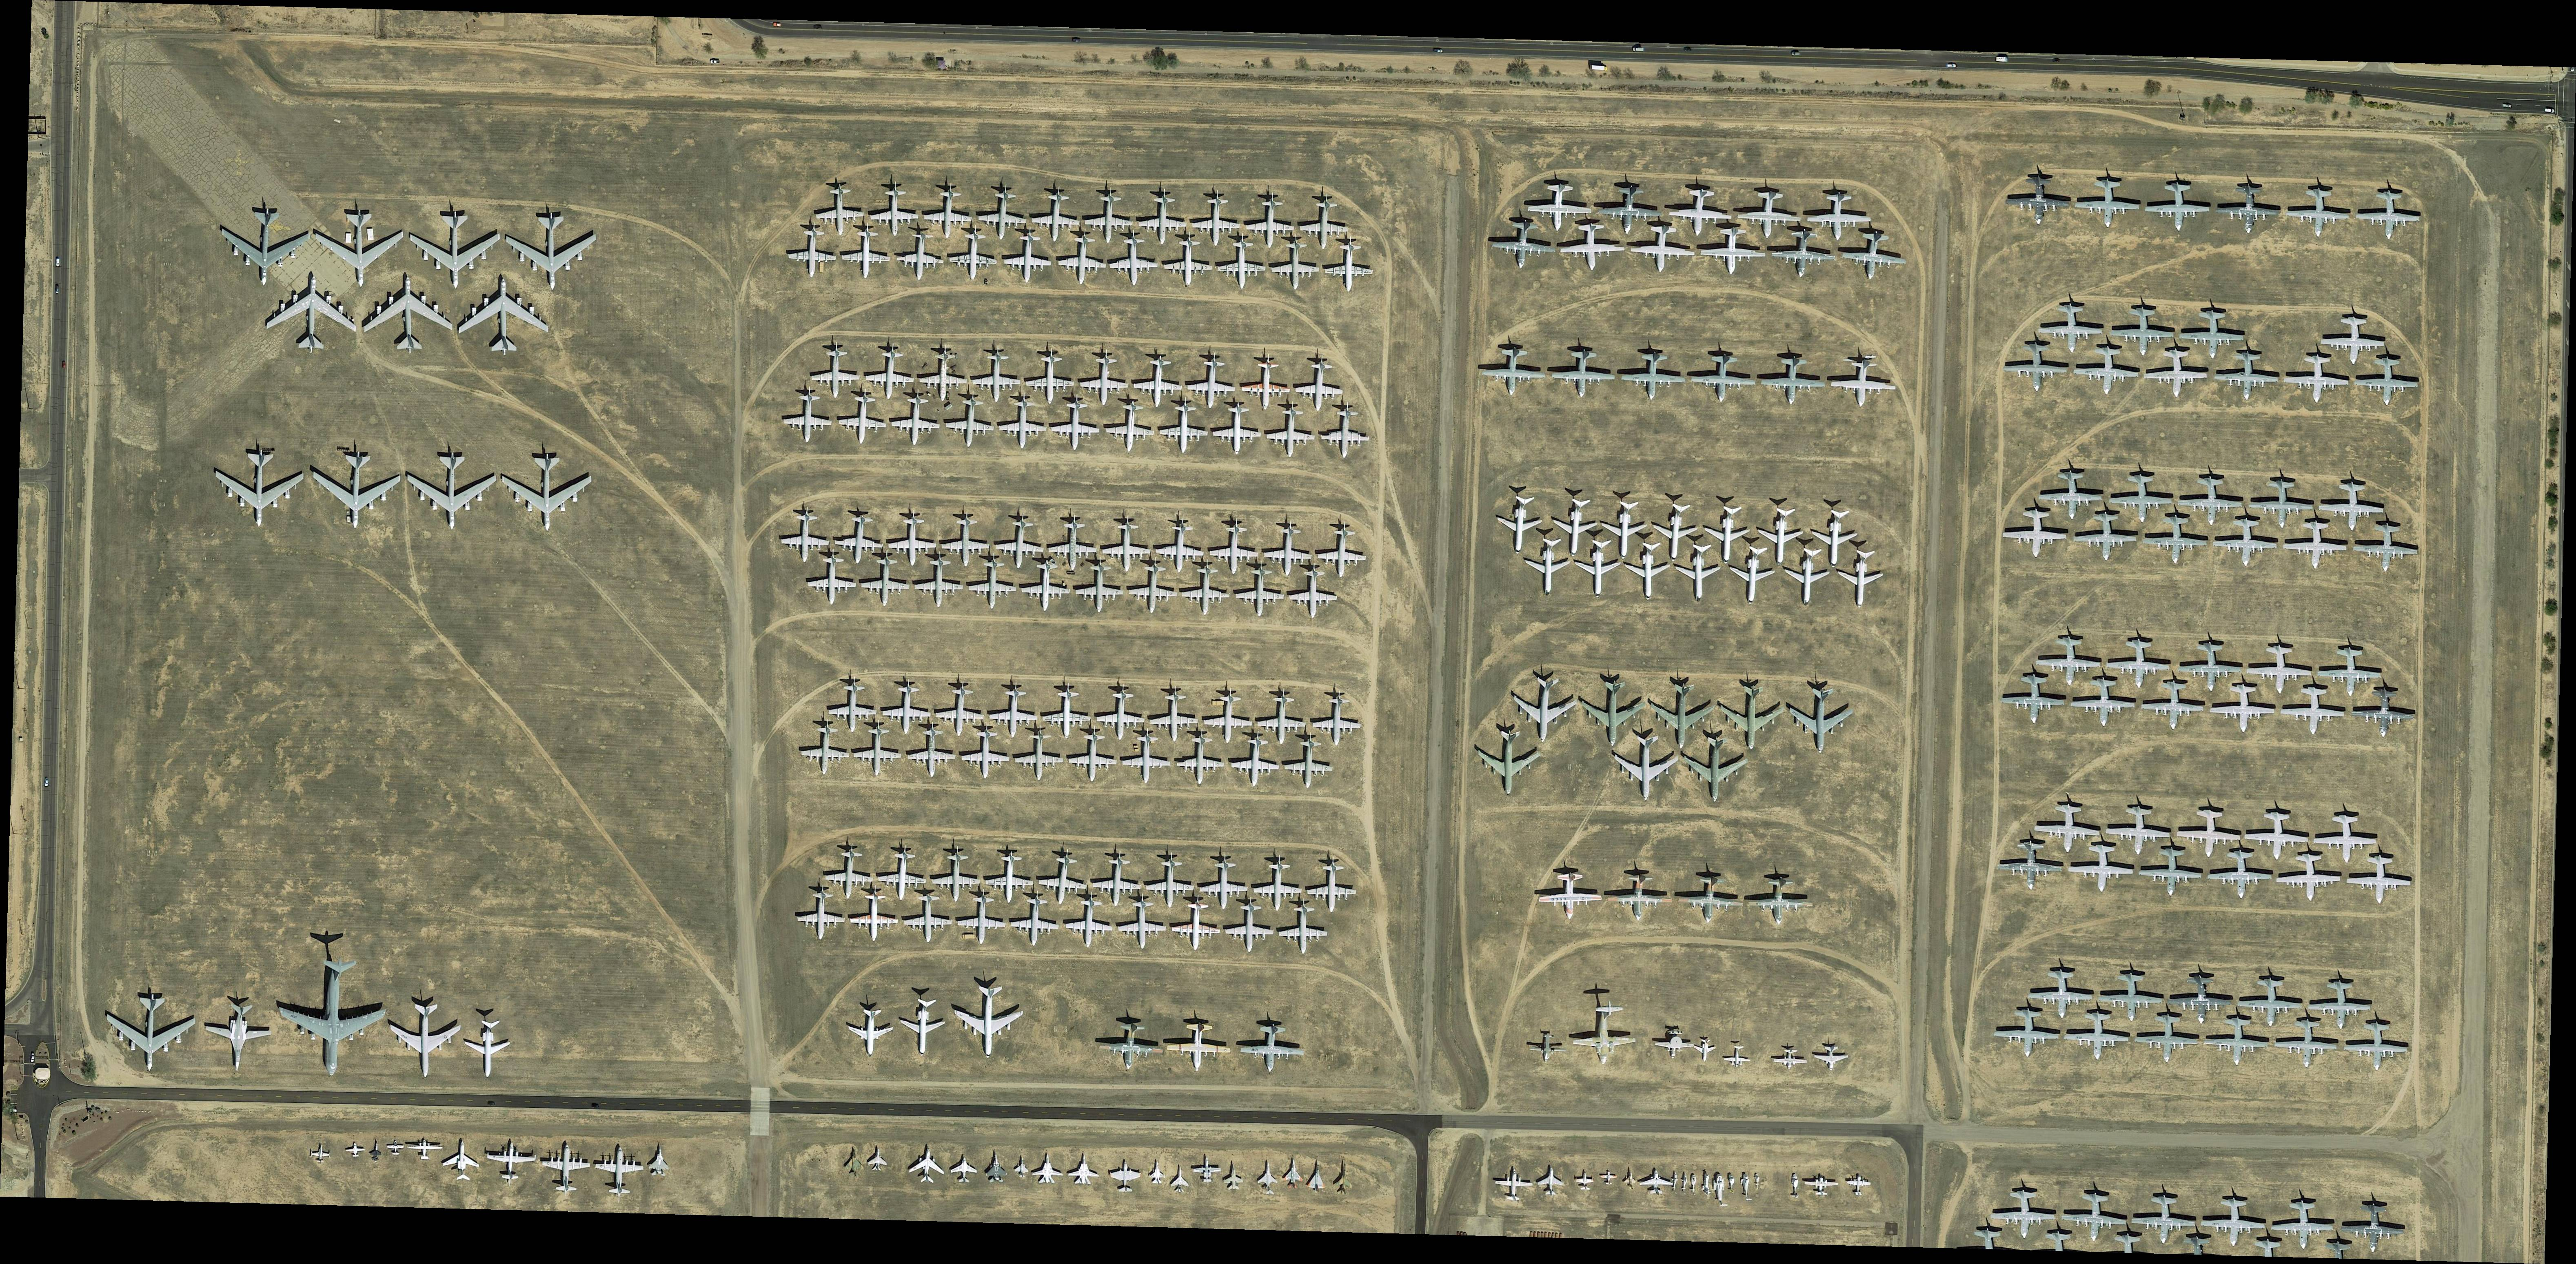helicopter: (1712, 1172, 1727, 1206), (1740, 1172, 1753, 1202), (1789, 1170, 1801, 1200), (1700, 1169, 1712, 1197), (1679, 1169, 1690, 1192), (1727, 1170, 1736, 1195), (1687, 1174, 1699, 1193), (1669, 1169, 1679, 1192), (1753, 1172, 1761, 1190)
plane: (273, 953, 393, 1078), (102, 990, 199, 1075), (209, 445, 306, 531), (503, 209, 596, 293), (457, 274, 552, 357), (310, 445, 403, 529), (404, 449, 496, 533), (407, 210, 503, 291), (218, 207, 312, 288), (312, 209, 404, 288), (501, 452, 593, 531), (266, 276, 360, 353), (363, 274, 453, 353), (200, 998, 278, 1077), (950, 983, 1025, 1060), (389, 1003, 462, 1078), (1579, 679, 1648, 750), (1612, 733, 1681, 802), (1649, 680, 1718, 750), (1682, 736, 1751, 804), (1571, 998, 1636, 1065), (1477, 730, 1544, 796), (1789, 687, 1855, 754), (1720, 684, 1784, 753), (1513, 677, 1579, 743), (2349, 518, 2422, 577), (2131, 1009, 2203, 1068), (2106, 301, 2177, 360), (1988, 1187, 2058, 1246), (1838, 228, 1911, 286), (1628, 220, 1700, 278), (2244, 643, 2318, 699), (2101, 804, 2175, 860), (2058, 1190, 2131, 1246), (2031, 802, 2103, 858), (1488, 217, 1561, 273), (2104, 636, 2173, 694), (2341, 1019, 2410, 1077), (2349, 685, 2420, 741), (1993, 1006, 2063, 1062), (1677, 871, 1748, 927), (1760, 353, 1830, 409), (1830, 355, 1901, 411), (2277, 684, 2349, 738), (2316, 480, 2389, 534), (2128, 1193, 2200, 1248), (1687, 352, 1760, 406), (2316, 644, 2385, 700), (2034, 634, 2103, 690), (2211, 347, 2280, 403), (2247, 475, 2316, 531), (2175, 807, 2244, 863), (1526, 181, 1595, 237), (2001, 508, 2072, 562), (2274, 850, 2344, 904), (2096, 971, 2167, 1026), (2142, 181, 2213, 235), (1735, 189, 1806, 243), (2067, 843, 2139, 896), (1594, 184, 1666, 237), (2037, 301, 2104, 357), (1165, 1021, 1234, 1075), (2320, 314, 2389, 368), (2178, 307, 2247, 362), (2339, 1202, 2408, 1256), (2200, 1197, 2269, 1251), (2346, 853, 2415, 907), (2136, 845, 2205, 899), (2354, 189, 2423, 243), (1666, 186, 1735, 240), (2073, 178, 2142, 232), (1096, 1021, 1166, 1073), (2175, 639, 2246, 692), (1994, 840, 2067, 891), (1556, 220, 1628, 271), (2285, 184, 2351, 240), (2244, 810, 2312, 865), (2073, 345, 2141, 399), (2177, 475, 2244, 529), (2203, 1014, 2270, 1068), (2236, 976, 2303, 1031), (2215, 182, 2282, 237), (1480, 345, 1548, 399), (2284, 353, 2353, 406), (2272, 1019, 2341, 1072), (2063, 1011, 2132, 1063), (1699, 225, 1768, 278), (1806, 191, 1874, 243), (2004, 176, 2073, 228), (1725, 544, 1781, 608), (2108, 472, 2173, 526), (1239, 1022, 1306, 1075), (2211, 518, 2279, 570), (2001, 342, 2068, 394), (2035, 470, 2103, 523), (2353, 357, 2420, 409), (2312, 812, 2379, 865), (2167, 975, 2234, 1027), (1607, 871, 1674, 924), (1771, 228, 1838, 281), (1551, 348, 1618, 401), (2026, 970, 2095, 1021), (1746, 876, 1815, 927), (1037, 847, 1092, 909), (943, 388, 999, 450), (864, 339, 918, 403), (2142, 516, 2208, 569), (2142, 347, 2208, 399), (2269, 1198, 2334, 1251), (2139, 680, 2206, 731), (2205, 850, 2274, 899), (823, 840, 877, 902), (881, 676, 935, 738), (836, 386, 890, 449), (2308, 980, 2372, 1032), (2003, 674, 2068, 725), (2070, 677, 2136, 728), (2072, 513, 2139, 562), (798, 717, 854, 776), (1009, 888, 1063, 948), (794, 883, 848, 943), (889, 386, 943, 447), (1078, 347, 1132, 408), (994, 511, 1048, 572), (2208, 687, 2277, 735), (1649, 503, 1702, 565), (1538, 871, 1602, 922), (1621, 352, 1686, 403), (1599, 500, 1649, 564), (2282, 521, 2348, 570), (1551, 496, 1600, 562), (1196, 853, 1250, 912), (1147, 685, 1201, 745), (1203, 687, 1257, 746), (1316, 521, 1370, 580), (877, 842, 930, 902), (807, 547, 859, 608), (826, 674, 879, 735), (935, 679, 987, 740), (1094, 682, 1147, 743), (956, 886, 1009, 947), (1240, 352, 1293, 413), (885, 508, 938, 569), (1209, 516, 1262, 577), (787, 220, 840, 281), (840, 220, 892, 281), (948, 222, 1001, 283), (1002, 225, 1055, 286), (1137, 187, 1189, 248), (1702, 505, 1753, 567), (1495, 495, 1546, 557), (1672, 542, 1723, 605), (1092, 850, 1145, 909), (1014, 722, 1066, 781), (987, 680, 1040, 740), (966, 551, 1019, 610), (1293, 353, 1346, 413), (869, 181, 922, 240), (1045, 513, 1097, 572), (932, 843, 982, 904), (1224, 894, 1275, 955), (1042, 680, 1092, 741), (1171, 893, 1222, 953), (1065, 889, 1116, 950), (848, 883, 899, 943), (1050, 391, 1101, 452), (782, 385, 833, 445), (940, 508, 991, 569), (595, 1144, 646, 1205), (1572, 537, 1623, 598), (1810, 510, 1860, 572), (1756, 506, 1806, 569), (539, 1142, 593, 1198), (1306, 856, 1359, 914), (1283, 731, 1336, 789), (1229, 730, 1281, 787), (1106, 398, 1158, 455), (1099, 516, 1152, 574), (907, 720, 958, 779), (1068, 725, 1119, 784), (861, 549, 912, 608), (1278, 896, 1329, 955), (913, 549, 964, 608), (1321, 401, 1372, 460), (1074, 556, 1125, 615), (1025, 347, 1076, 406), (810, 340, 861, 399), (918, 344, 969, 403), (923, 181, 974, 240), (977, 181, 1028, 240), (1155, 516, 1206, 575), (1263, 519, 1314, 579), (1181, 557, 1232, 616), (780, 506, 831, 565), (1056, 227, 1107, 286), (1109, 228, 1160, 288), (1163, 230, 1214, 289), (1216, 232, 1267, 291), (1084, 186, 1135, 245), (463, 1017, 513, 1078), (999, 391, 1048, 452), (1188, 350, 1237, 411), (1235, 559, 1285, 620), (1299, 191, 1349, 251), (1783, 547, 1832, 608), (1837, 549, 1884, 611), (1134, 353, 1186, 409), (831, 514, 887, 567), (961, 723, 1012, 781), (853, 720, 904, 777), (1145, 851, 1196, 909), (1253, 855, 1304, 912), (1257, 689, 1308, 746), (1311, 690, 1362, 748), (1020, 557, 1071, 615), (1267, 401, 1318, 459), (1212, 401, 1263, 459), (1129, 557, 1180, 615), (1270, 233, 1321, 291), (1160, 396, 1209, 455), (973, 345, 1022, 404), (1032, 184, 1081, 243), (1324, 235, 1373, 294), (1245, 191, 1295, 250), (899, 998, 946, 1059), (1625, 539, 1671, 602), (895, 230, 948, 284), (1120, 728, 1171, 784), (815, 181, 866, 237), (1176, 728, 1226, 786), (1117, 893, 1166, 950), (1191, 189, 1240, 247), (1290, 560, 1337, 620), (1525, 537, 1571, 598), (986, 848, 1035, 904), (902, 893, 953, 943), (486, 1141, 537, 1190), (848, 1008, 894, 1059), (1493, 1164, 1534, 1203), (444, 1137, 480, 1182), (1653, 1027, 1697, 1062), (907, 1146, 945, 1185), (1528, 1034, 1571, 1065), (1032, 1151, 1065, 1183), (1068, 1152, 1101, 1185), (1109, 1160, 1142, 1193), (1638, 1167, 1674, 1195), (1814, 1044, 1848, 1072), (982, 1147, 1009, 1183), (1536, 1165, 1566, 1197), (406, 1137, 445, 1160), (1771, 1049, 1810, 1072), (950, 1154, 979, 1183), (646, 1146, 672, 1179), (1257, 1160, 1280, 1197), (1193, 1156, 1222, 1183), (1281, 1157, 1306, 1190), (1304, 1160, 1329, 1193), (1802, 1175, 1840, 1197), (1332, 1162, 1355, 1195), (843, 1146, 866, 1177), (1692, 1037, 1718, 1063), (1222, 1162, 1245, 1192), (1723, 1045, 1753, 1068), (1845, 1175, 1873, 1198), (1170, 1165, 1191, 1193), (309, 1142, 332, 1165), (1574, 1169, 1597, 1192), (867, 1149, 889, 1174), (1147, 1159, 1166, 1185), (1012, 1154, 1032, 1179), (1623, 1167, 1638, 1192), (1599, 1169, 1618, 1187), (345, 1142, 366, 1159), (370, 1137, 383, 1162), (386, 1141, 404, 1156)
